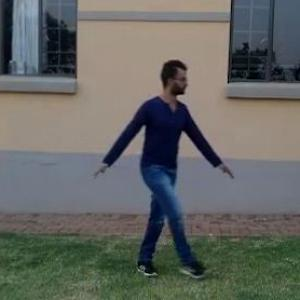land: (97, 71, 229, 245)
